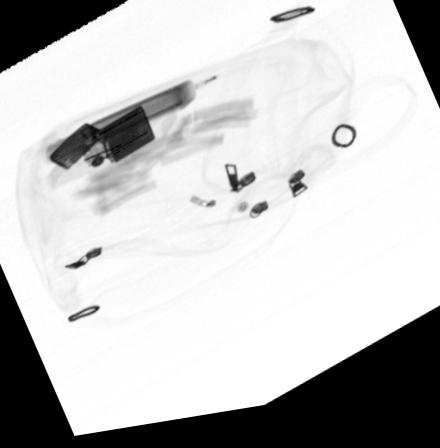Lighter: (47, 109, 155, 174)
